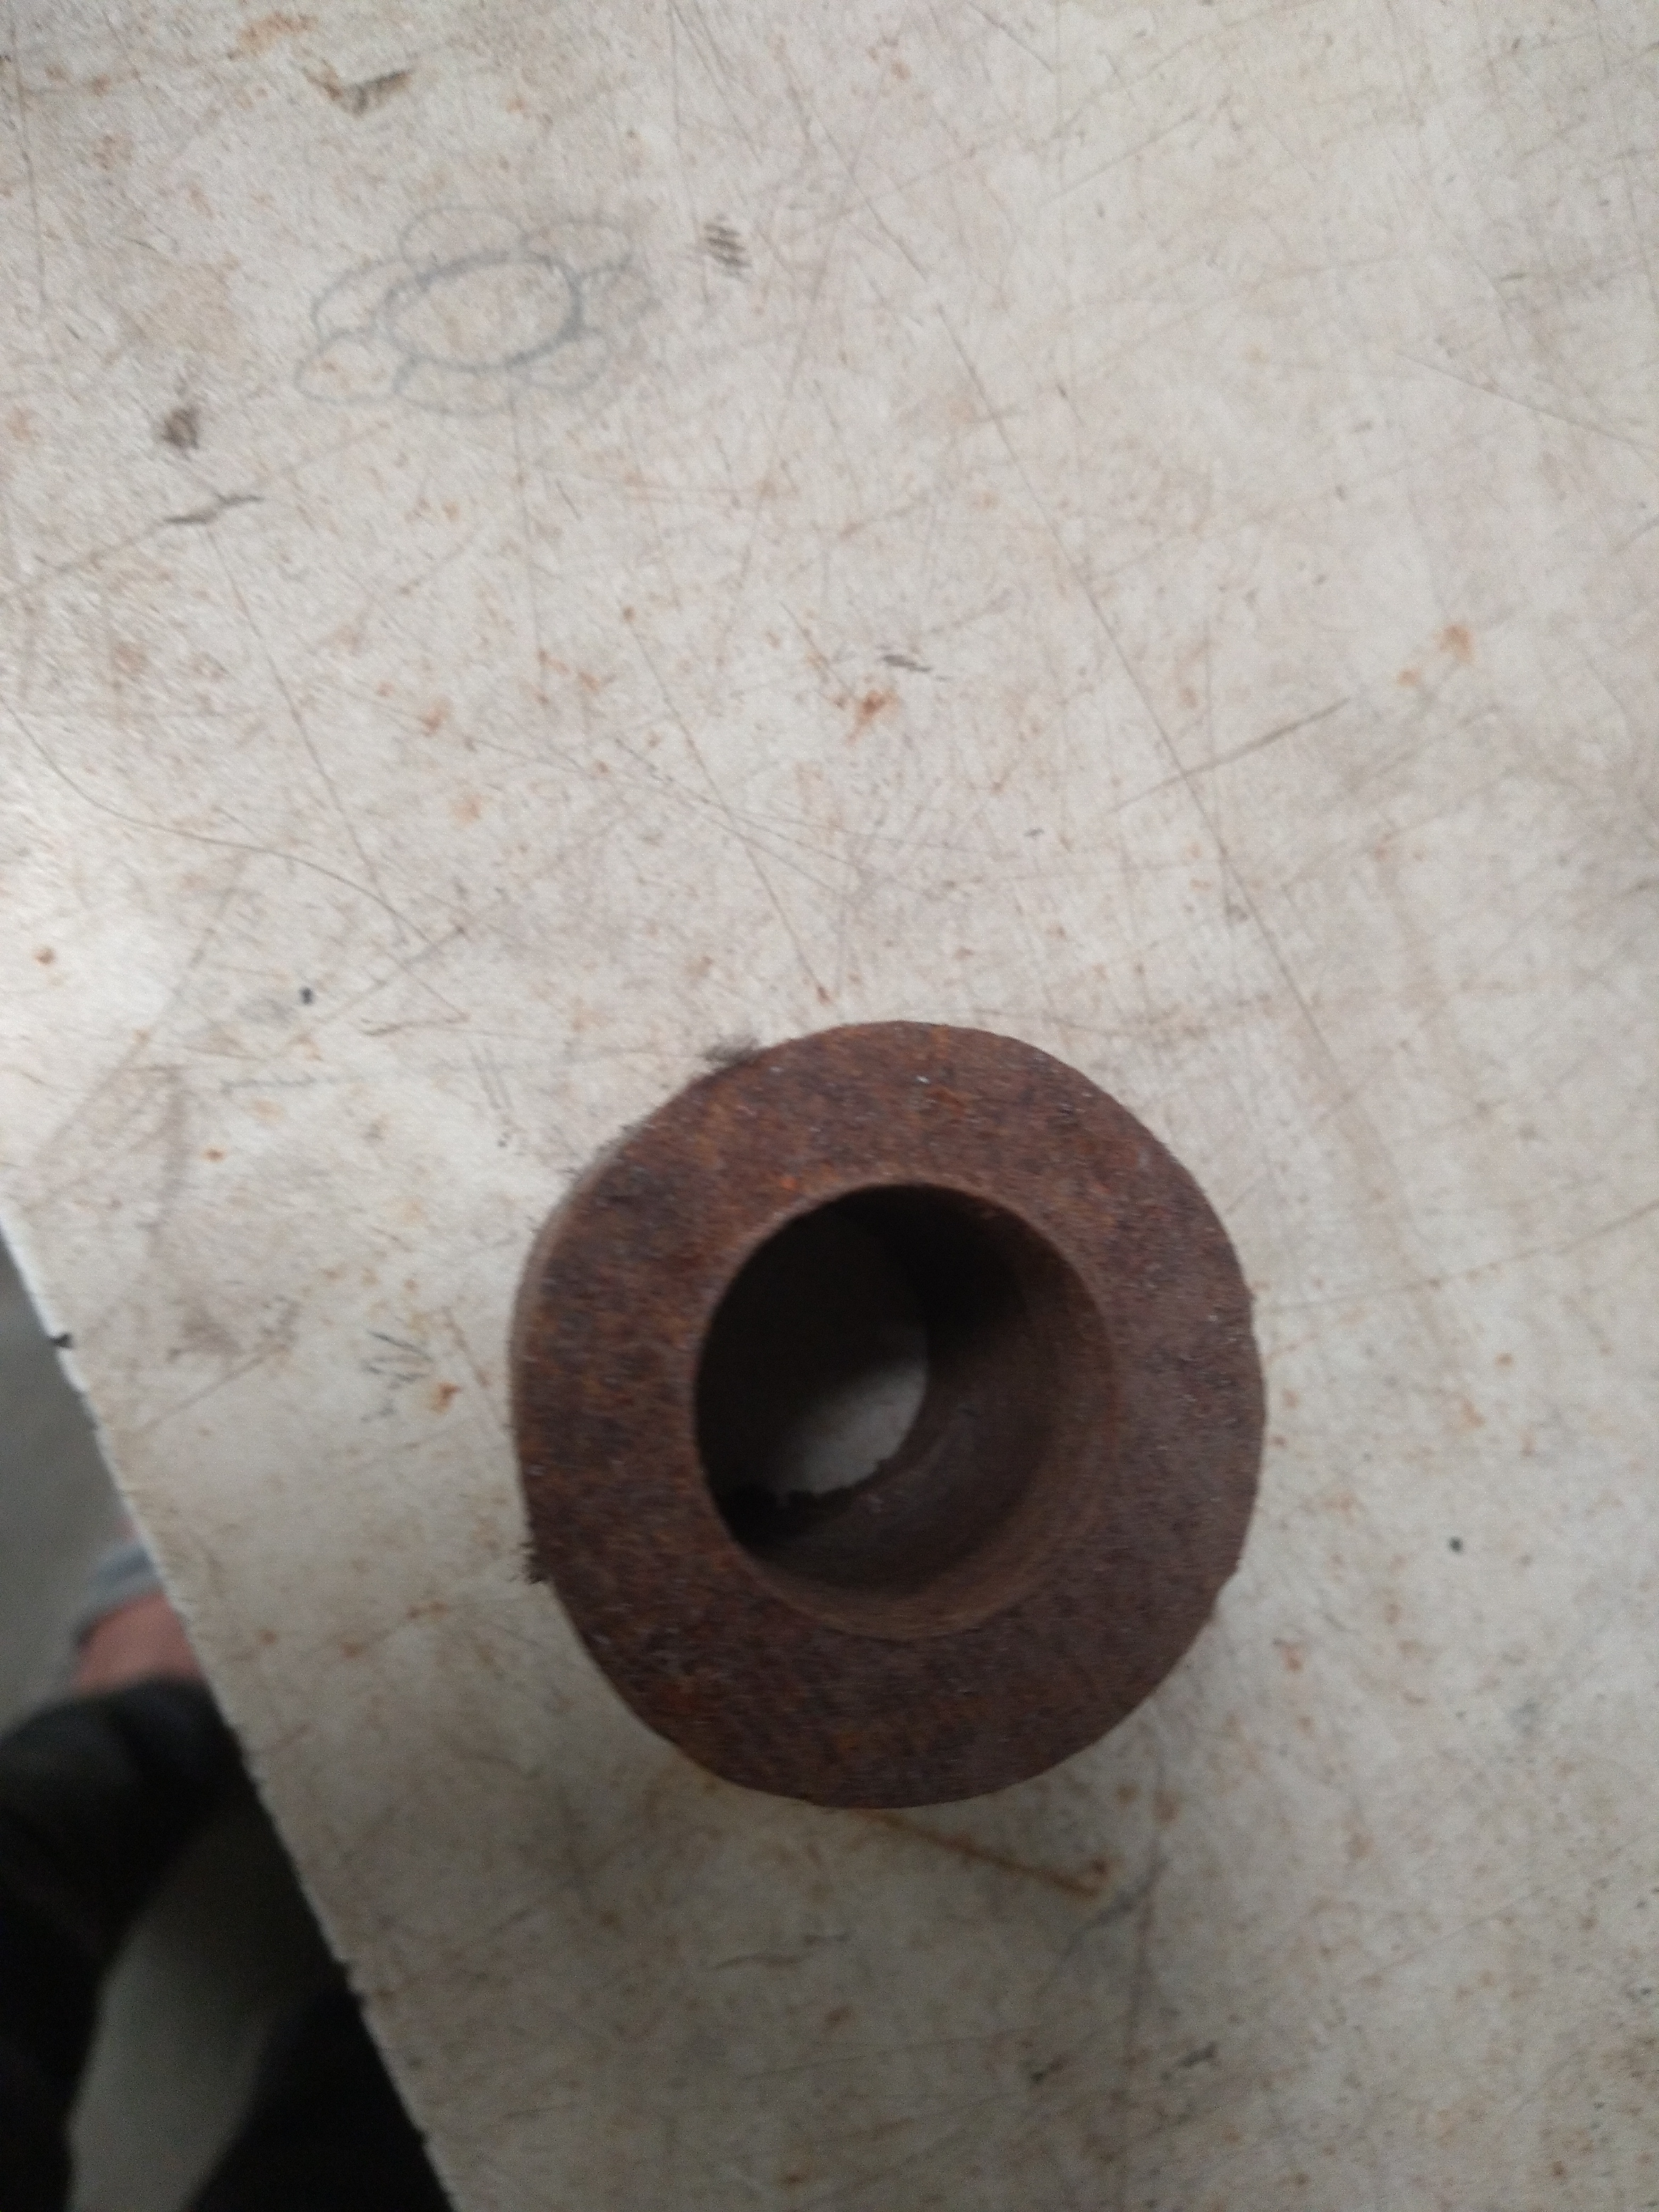No thread: (657, 1170, 1182, 1649)
